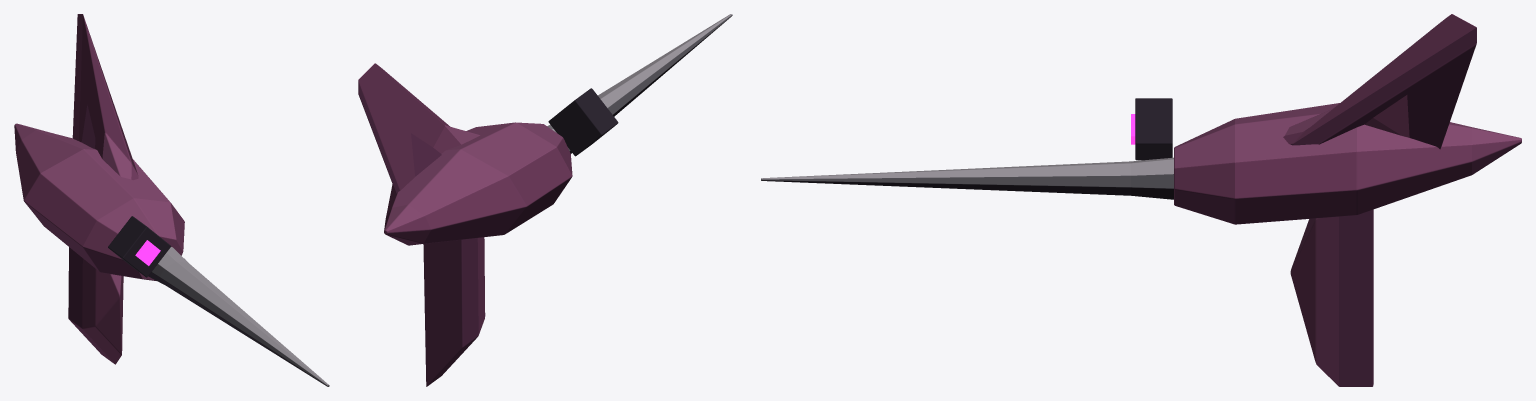
Rendered from Sniper.fbx.
3 renders of one model, left to right at view 1: azimuth 30°, elevation 25°; view 2: azimuth 150°, elevation 25°; view 3: azimuth 270°, elevation 25°, orthographic. The views are drawn at different scales.
Parts seen in each view (by area): view 1: Armor 2, Armor 4, Armor 1, Armor 3; view 2: Armor 2, Armor 3, Armor 4, Armor 1; view 3: Armor 2, Armor 3, Armor 4, Armor 1.
Boxes of the visible parts, x1,y1,x2,y2 form: Armor 2: [14, 123, 184, 280]; Armor 4: [72, 14, 138, 180]; Armor 1: [135, 240, 329, 386]; Armor 3: [68, 247, 123, 364]; Armor 2: [384, 88, 618, 245]; Armor 3: [423, 237, 485, 386]; Armor 4: [358, 63, 480, 193]; Armor 1: [547, 14, 732, 153]; Armor 2: [1135, 98, 1521, 224]; Armor 3: [1290, 209, 1373, 386]; Armor 4: [1283, 14, 1476, 149]; Armor 1: [761, 114, 1173, 199].
Size of the model in its own units: 0.0354 by 0.0885 by 0.16.
